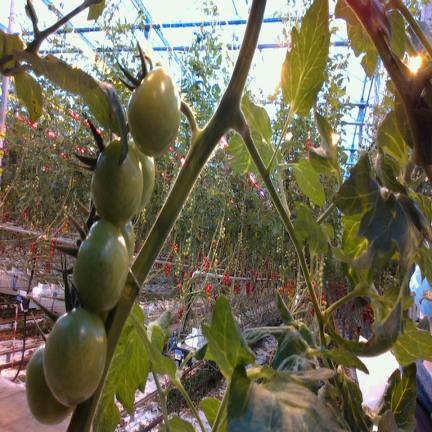6kp_peduncle: (177, 99, 229, 197)
6kp_petiole: (203, 62, 266, 176)
MainStem: (66, 0, 267, 432), (343, 0, 432, 184)
tomato: (43, 308, 106, 406), (73, 219, 129, 314), (128, 68, 180, 157), (91, 140, 143, 226), (26, 346, 72, 424), (133, 142, 155, 213), (121, 221, 135, 260)
